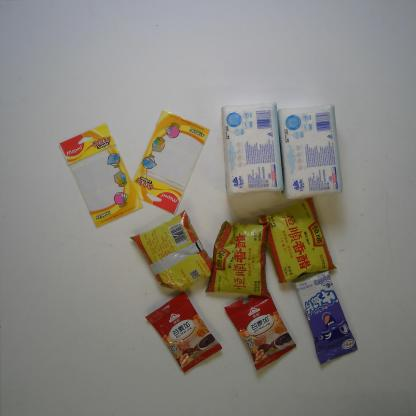Candy: (289, 269, 358, 366)
Instant Drink: (144, 291, 223, 374), (223, 288, 297, 371)
Seasoner: (256, 196, 340, 284), (128, 209, 215, 293), (202, 220, 271, 298)
Stationery: (58, 122, 145, 230), (134, 108, 212, 216)
Tissue: (277, 101, 344, 201), (220, 100, 286, 197)
